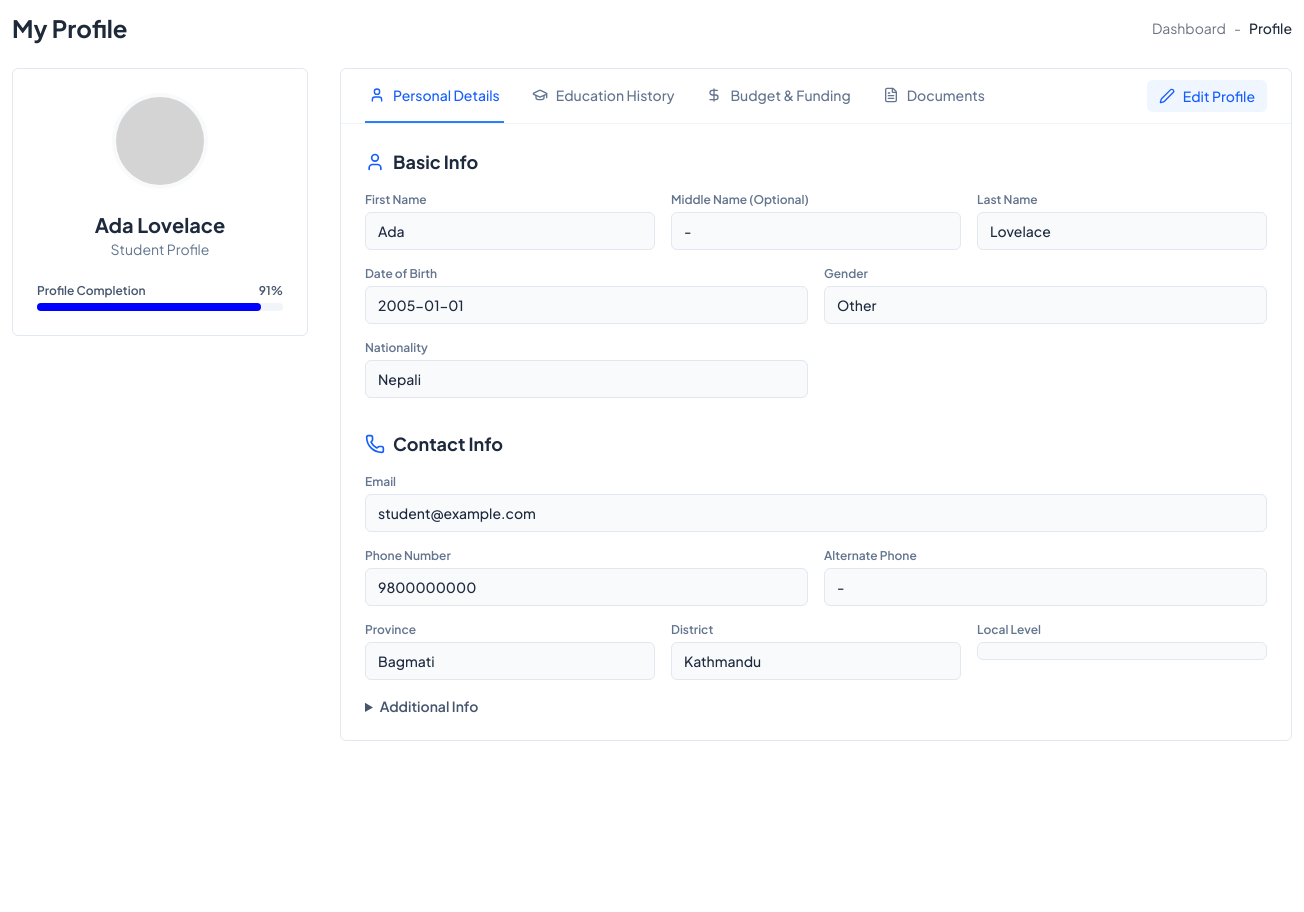
Test: the loaded profile's existing gender survives a save without edits to it
The image size is (1304, 912).
Click the button "Edit Profile" at (1207, 96), box [1147, 80, 1267, 112]
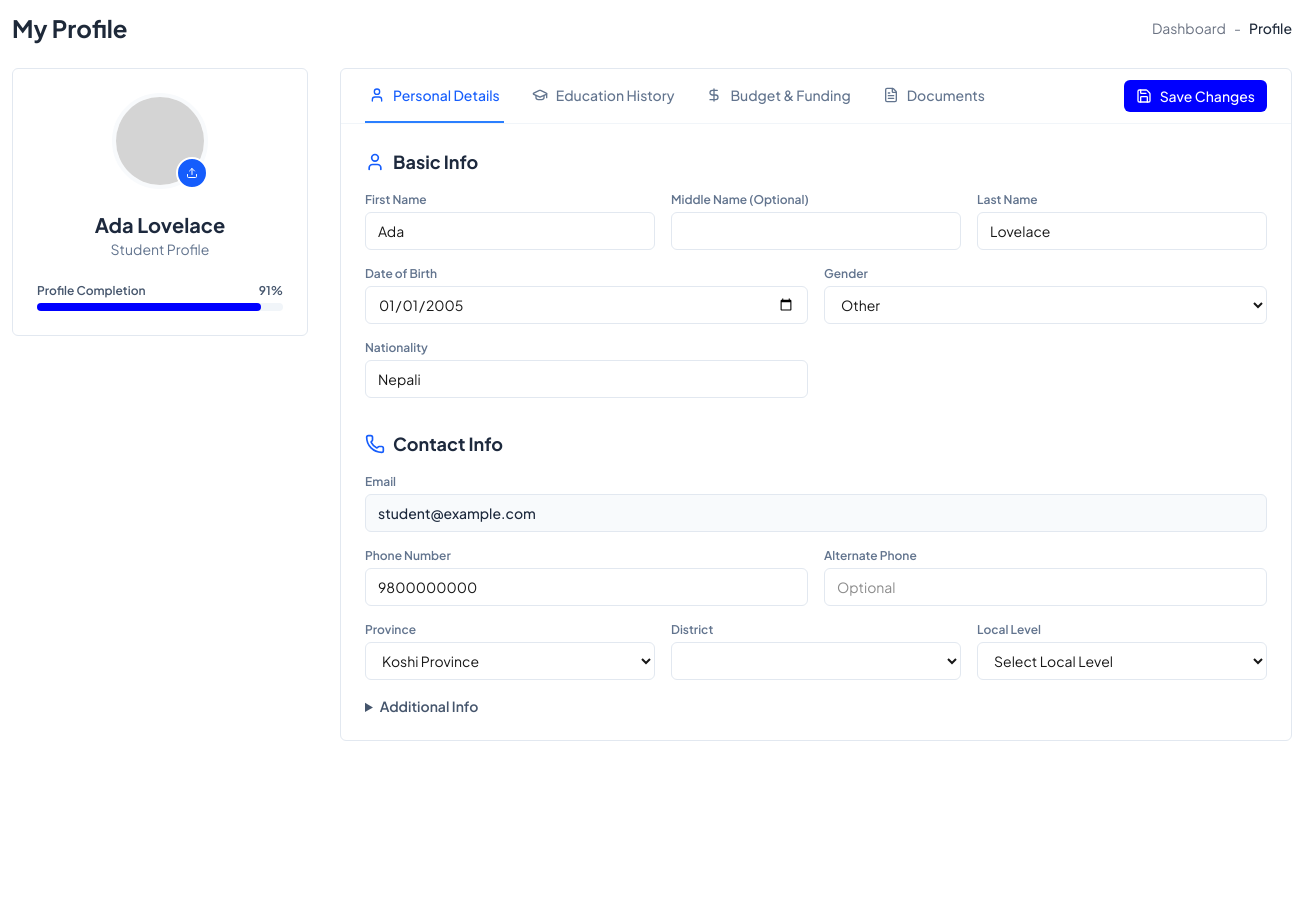
Click the button "Save Changes" at (1195, 96), box [1124, 80, 1267, 112]
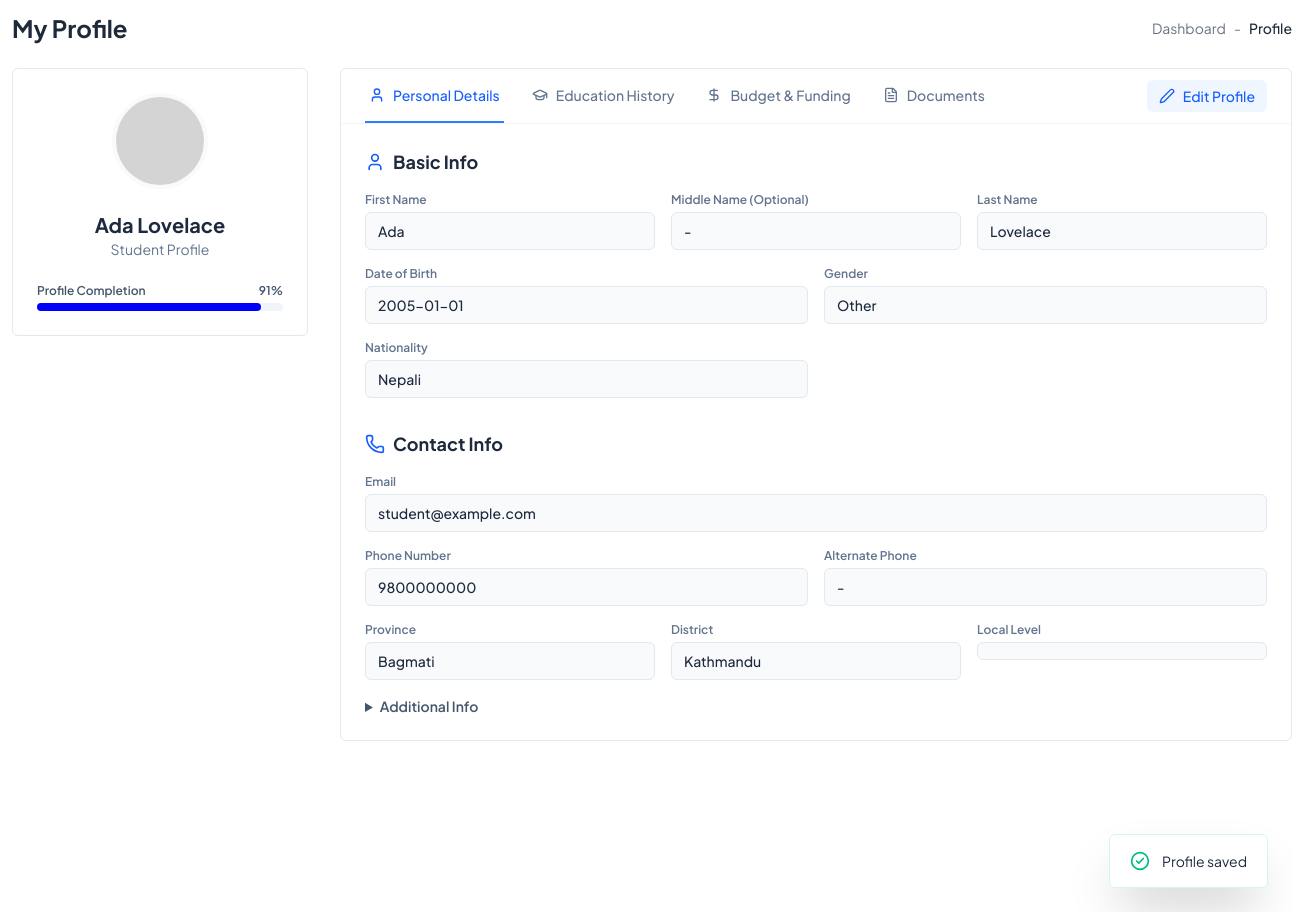
Expected: the text "Other" is shown, [824, 286, 1267, 324]
